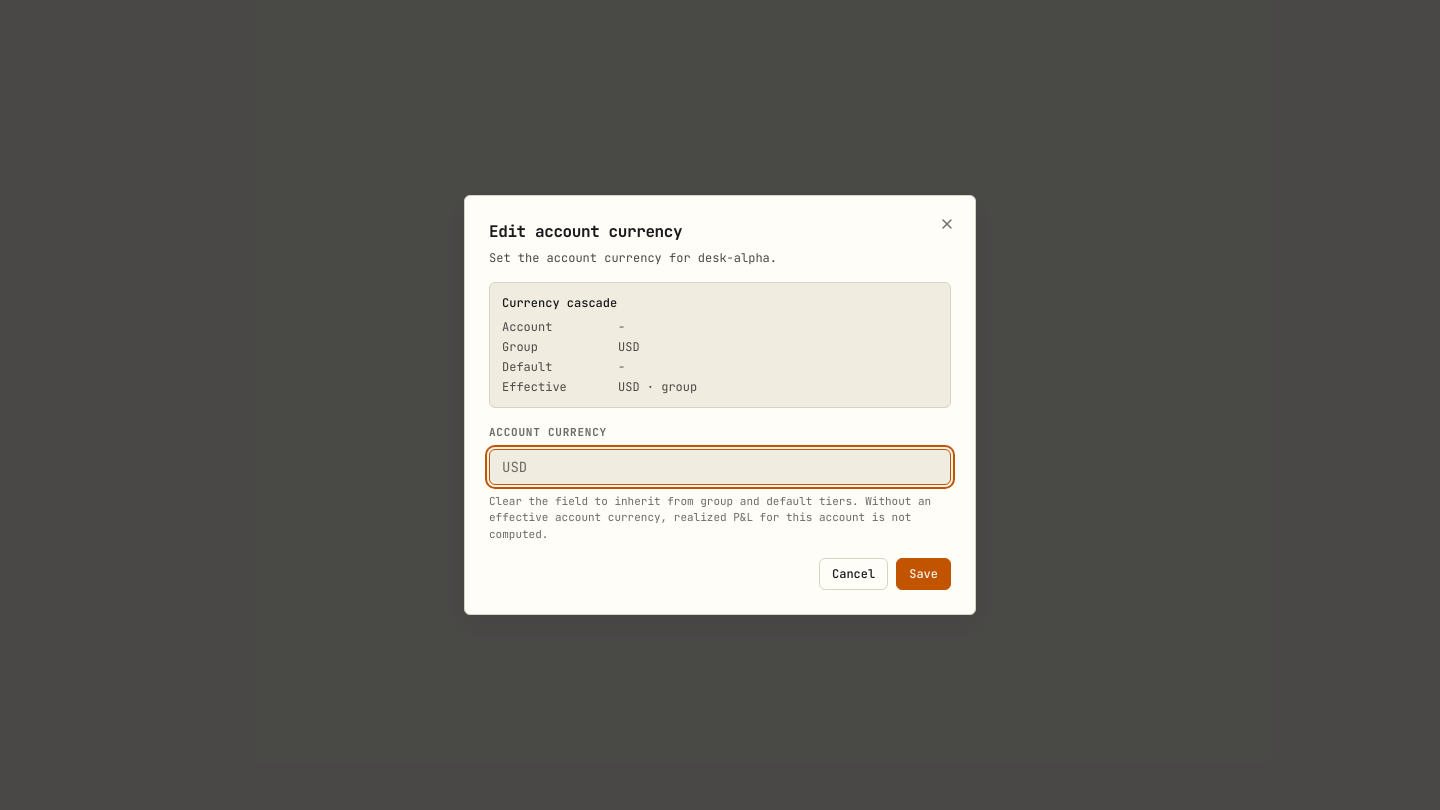
AccountCurrencyDialog › shows a refused change and stays open
Type "EUR" into the dropdown labelled "Account currency". click: (720, 466)
box: x1=489 y1=448 x2=951 y2=484
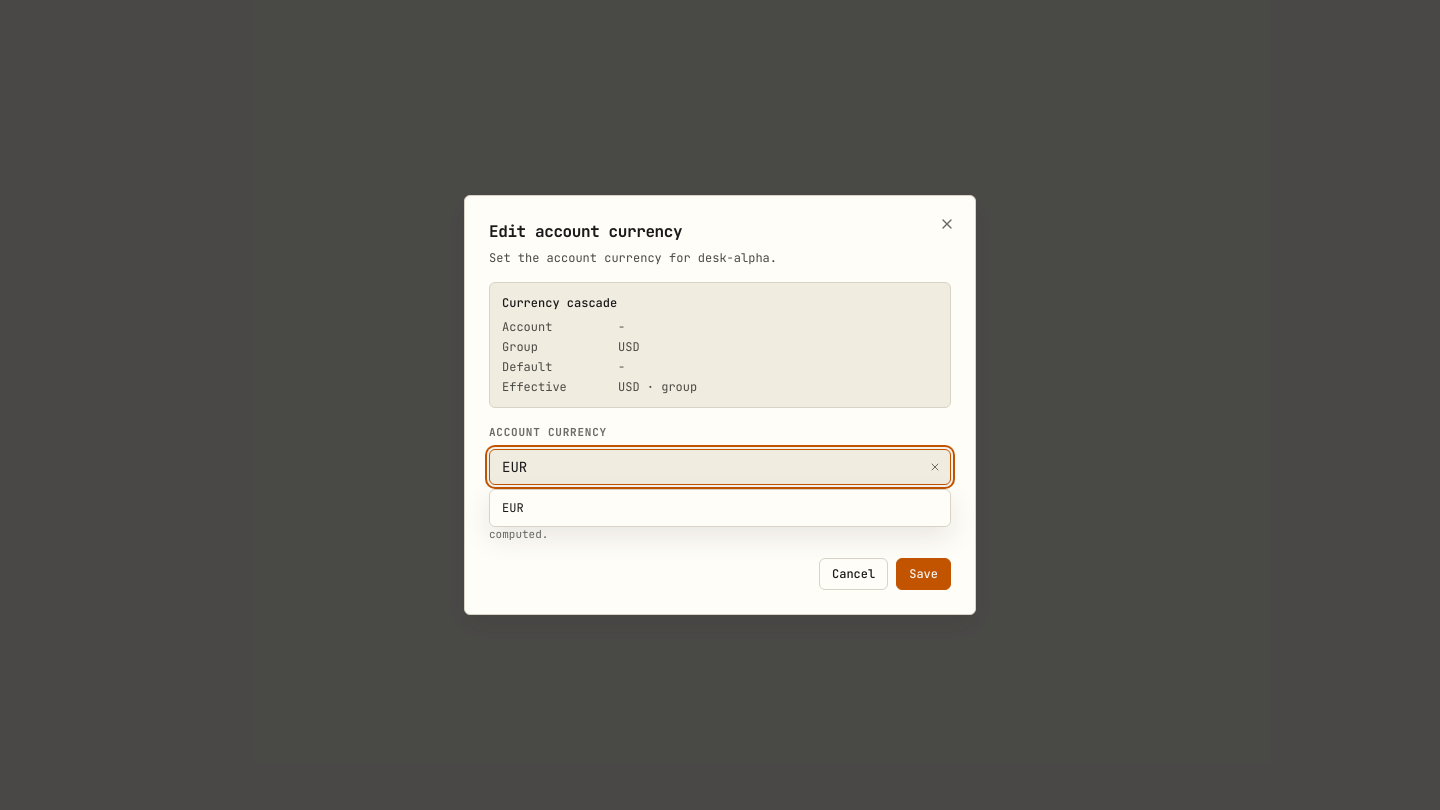
expect the list is shown: met, box x1=489 y1=488 x2=951 y2=526
Click the button "Save". click: (924, 574)
box: x1=896 y1=558 x2=951 y2=590
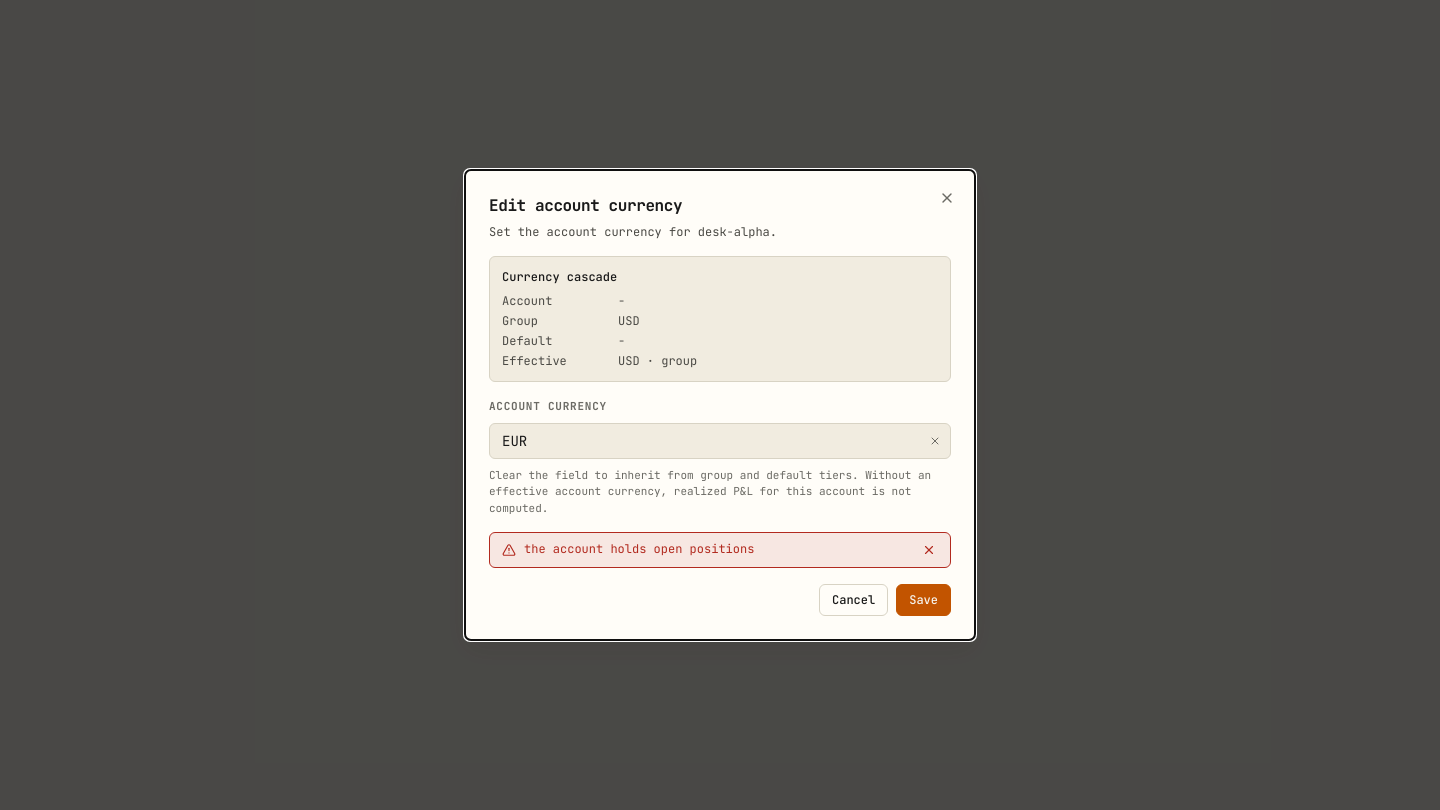
expect the button "Save" is enabled: met, box x1=896 y1=584 x2=951 y2=616
expect the list is gone: met
expect the message reads "the account holds open positions": met, box x1=524 y1=541 x2=754 y2=557
